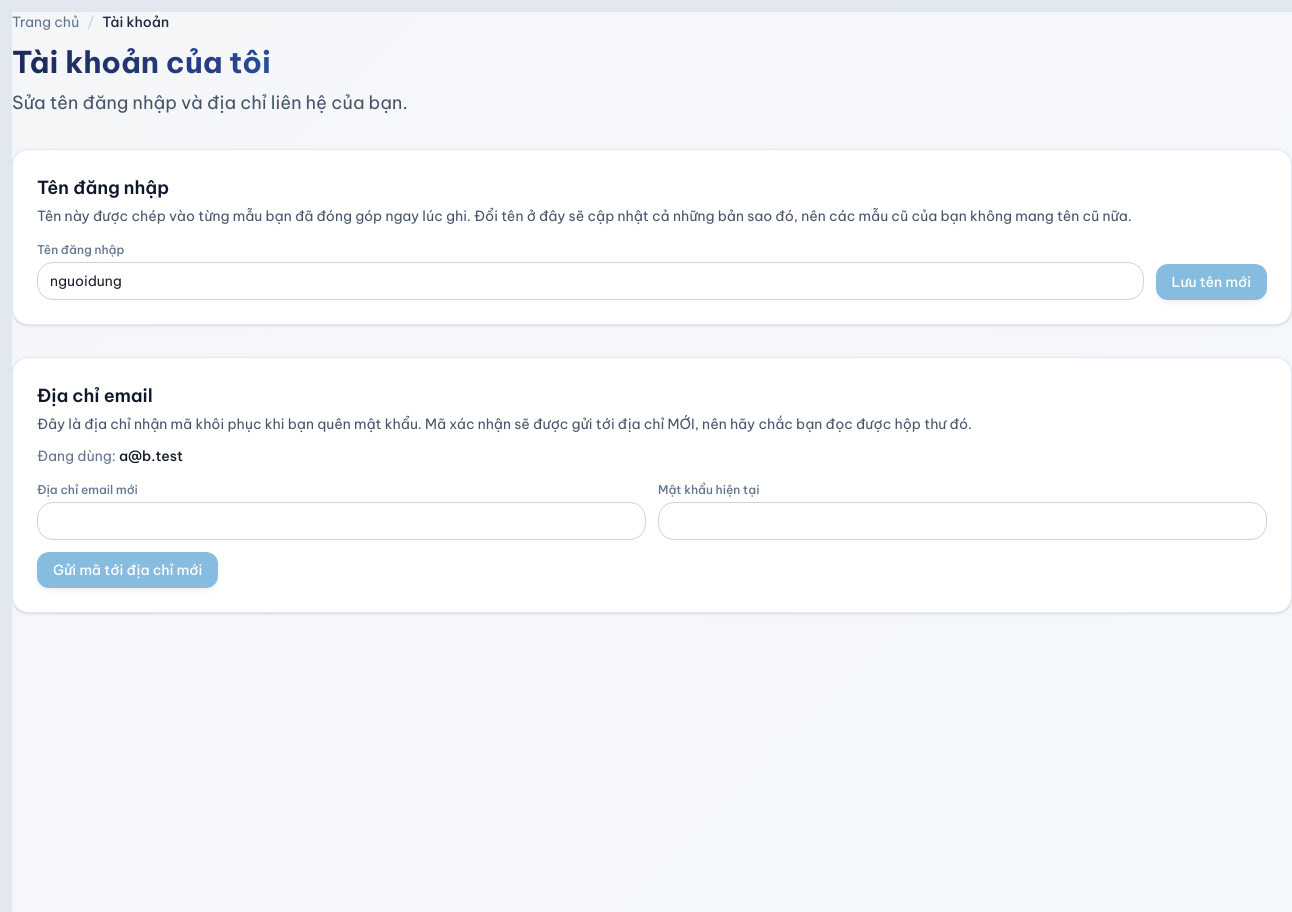
Đổi tên đăng nhập › hiện số hàng dữ liệu đã đổi theo
The width and height of the screenshot is (1292, 912).
Expected: the button "Lưu tên mới" is shown, [1156, 264, 1267, 300]
Replace the text in the field showing "nguoidung" with "tenmoi" at point(590, 281), box [37, 262, 1144, 300]
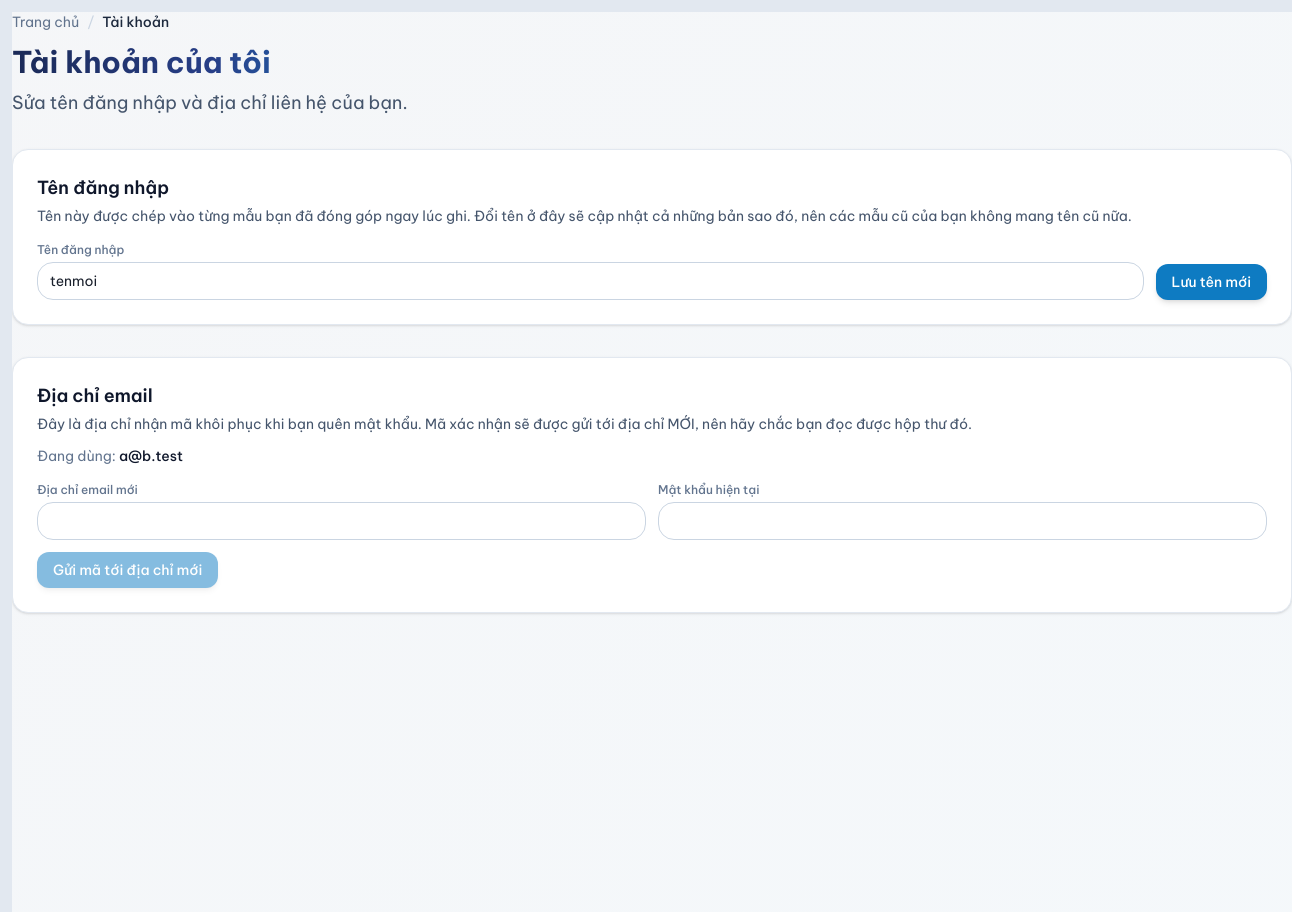
Click the button "Lưu tên mới" at point(1211, 282), box [1156, 264, 1267, 300]
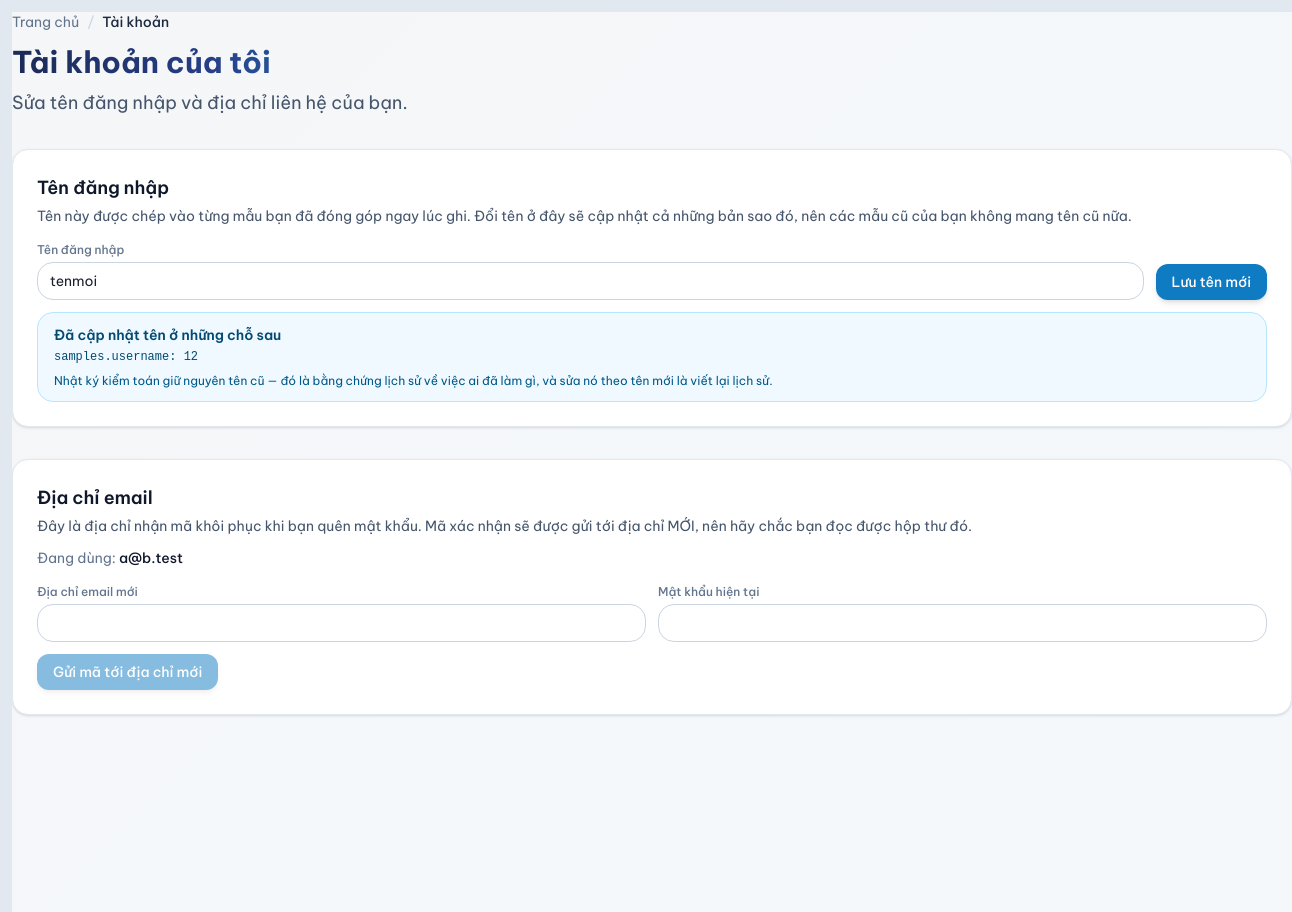
Expected: the list item "samples.username: 12" is shown, [54, 350, 198, 364]
